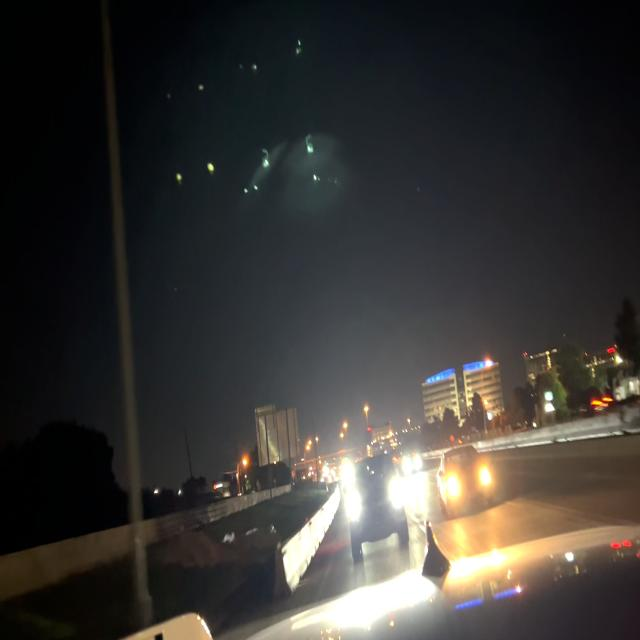back-of-sign: (253, 402, 300, 469)
